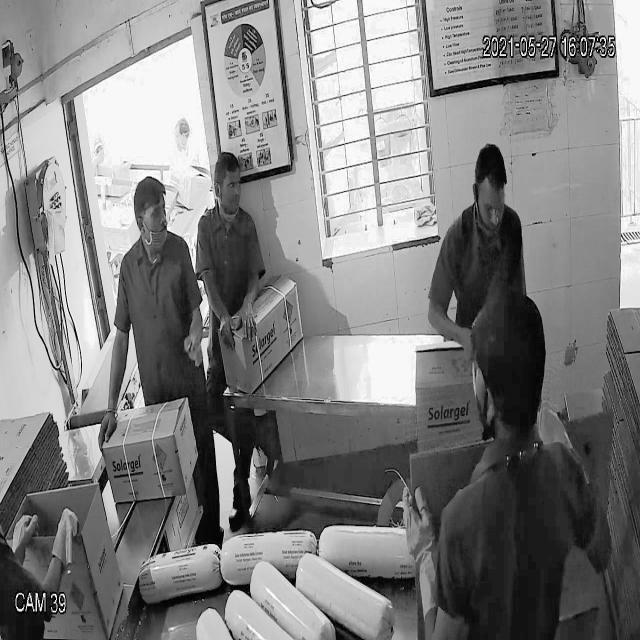apron: (397, 483, 446, 630), (50, 509, 84, 581), (7, 510, 41, 565)
gloves: (466, 295, 554, 437)
hairnet: (474, 188, 509, 239), (135, 210, 171, 255), (210, 179, 244, 222)
no_apron: (214, 305, 237, 353), (94, 407, 118, 452), (234, 301, 259, 342)
no_gloves: (467, 136, 513, 194), (128, 174, 168, 230), (209, 149, 241, 191)
